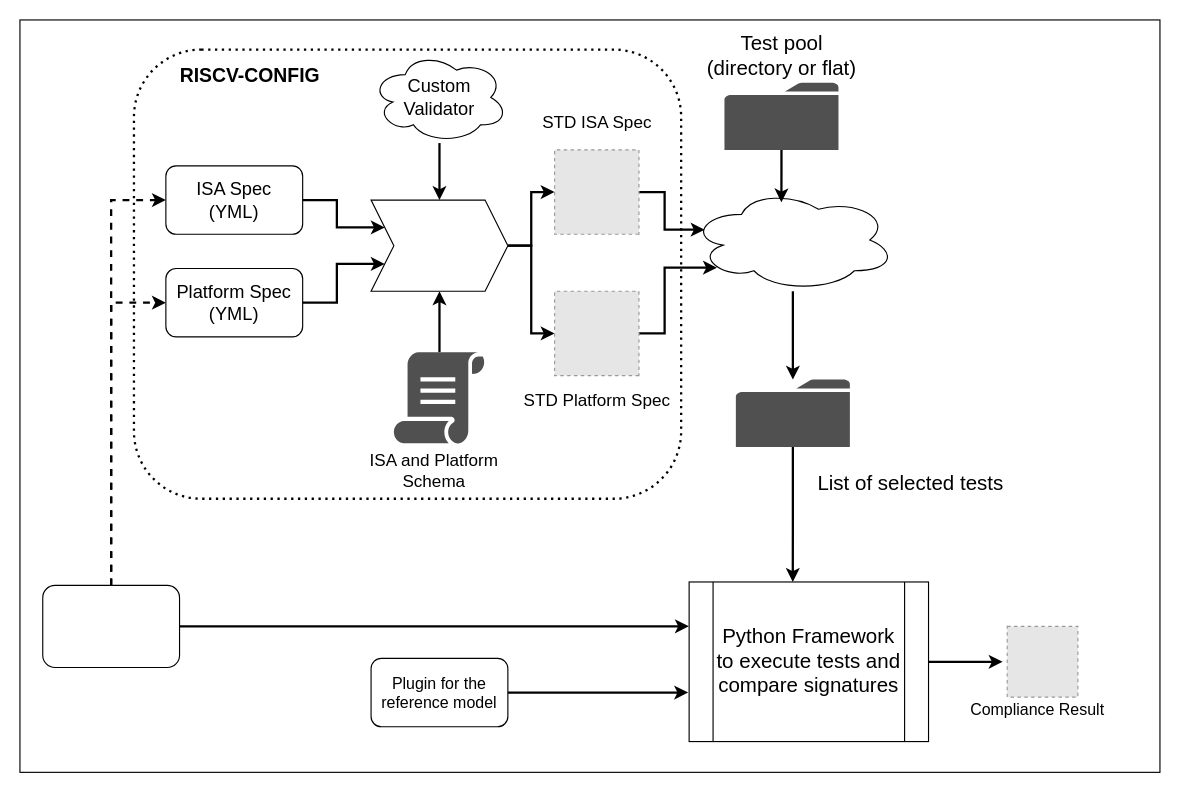
This 1180x792 diagram has some shape labels left out. Grey dashed boxes stand in for pictures. The shapes that lost their labels are listed below. From the top down, each one's centre as x and y in pixels, then its label:
At [439,245]: "Validator".
At [792,239]: "Test Selector".
At [111,625]: "Plugin for the DUT.".
